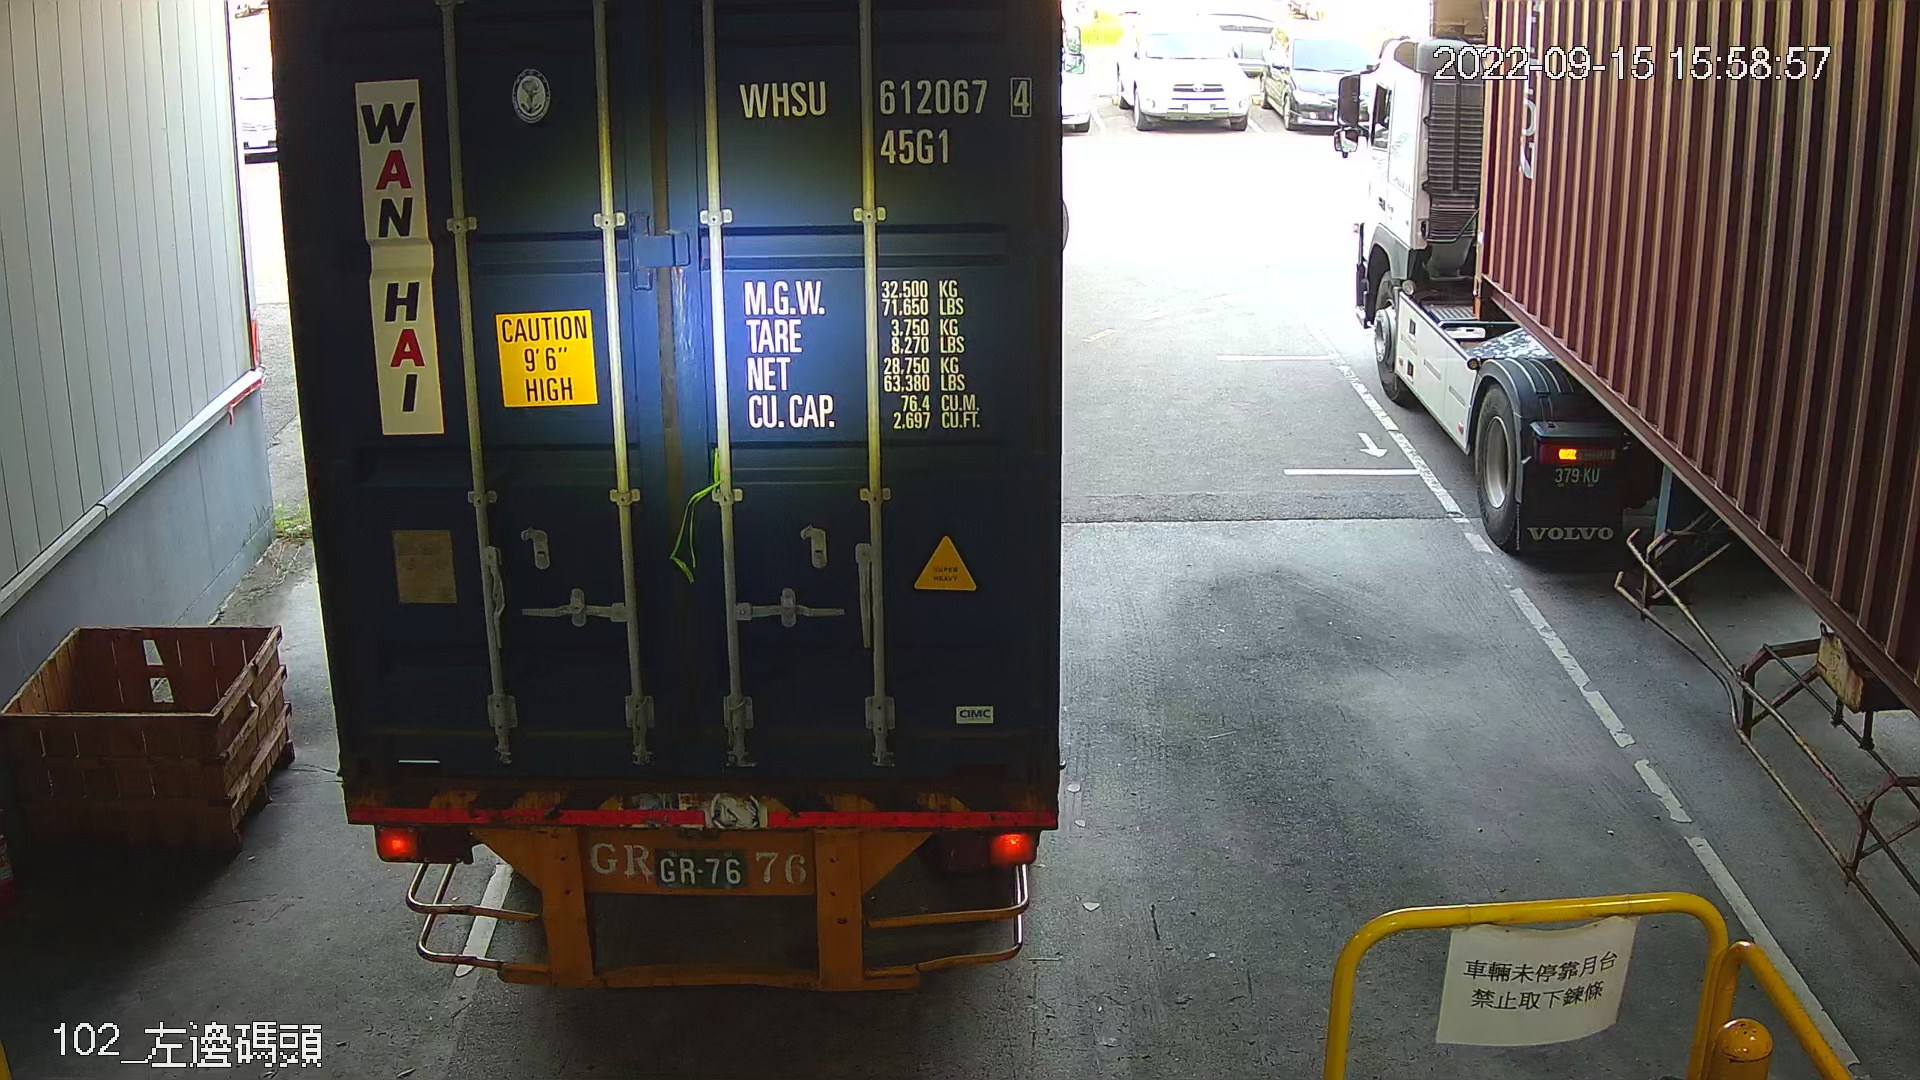container: (723, 63, 1042, 175)
